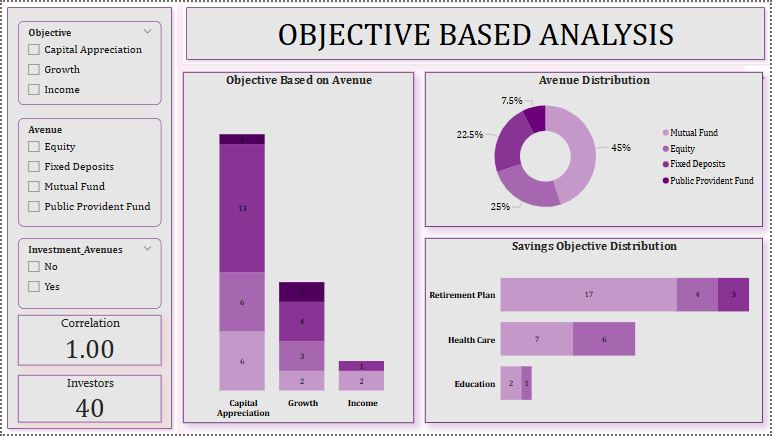

The dashboard page shown, as its layout file describes it:
{"tool":"powerbi","page":{"name":"Task 3","canvas":[1280,720],"ordinal":2},"visuals":[{"type":"shape","box":[0,0,292.3,720],"z":0},{"type":"shape","box":[298.1,0,982.1,105.1],"z":1000},{"type":"slicer","fields":{"Values":["Data_set 2.Objective"]},"box":[27.4,31.7,239,139.7],"z":2000},{"type":"card","title":"Investors","fields":{"Values":["CountNonNull(Data_set 2.Invest_Monitor)"]},"box":[27.4,622.1,239,79.2],"z":3000},{"type":"card","title":"Correlation","fields":{"Values":["Data_set 2.Count of Objective and Count of Investment_Avenues correlation for Objective"]},"box":[27.4,521.3,239,83.5],"z":4000},{"type":"slicer","fields":{"Values":["Data_set 2.Investment_Avenues"]},"box":[27.4,393.1,239,118.1],"z":5000},{"type":"slicer","fields":{"Values":["Data_set 2.Avenue"]},"box":[27.4,193,239,181.4],"z":6000},{"type":"columnChart","title":"Objective Based on Avenue","fields":{"Y":["CountNonNull(Data_set 2.Avenue)"],"Category":["Data_set 2.Objective"],"Series":["Data_set 2.Avenue"]},"box":[301.7,116.7,385,585],"z":7000},{"type":"barChart","title":"Savings Objective Distribution","fields":{"Category":["Data_set 2.What are your savings objectives?"],"Y":["CountNonNull(Data_set 2.Objective)"],"Series":["Data_set 2.Objective"]},"box":[705,393.3,563.3,308.3],"z":8000},{"type":"donutChart","title":"Avenue Distribution","fields":{"Y":["CountNonNull(Data_set 2.Avenue)"],"Category":["Data_set 2.Avenue"]},"box":[705.6,116.6,563,257.8],"z":9000}]}

Visuals, with their boxes in screenshot pixels (x1, y1, x2, y2), scaled from the page's 1280x720 canvas onto the 772x437 screenshot:
shape: l=0, t=0, r=176, b=436
shape: l=180, t=0, r=771, b=64
slicer - Data_set 2.Objective: l=17, t=19, r=161, b=104
"Investors" card: l=17, t=378, r=161, b=426
"Correlation" card: l=17, t=316, r=161, b=367
slicer - Data_set 2.Investment_Avenues: l=17, t=239, r=161, b=310
slicer - Data_set 2.Avenue: l=17, t=117, r=161, b=227
"Objective Based on Avenue" columnChart: l=182, t=71, r=414, b=426
"Savings Objective Distribution" barChart: l=425, t=239, r=765, b=426
"Avenue Distribution" donutChart: l=426, t=71, r=765, b=227
